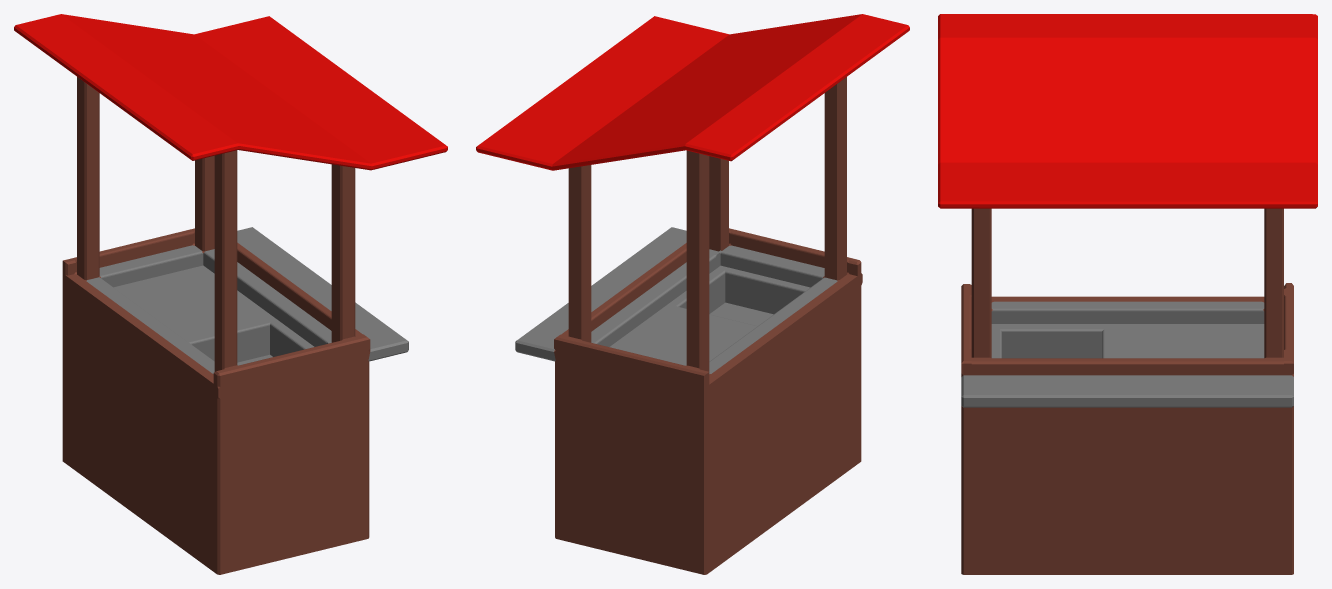
File: tindahan_2.fbx
3 views of the same model, side by side, from view 1: azimuth 30°, elevation 25°; view 2: azimuth 150°, elevation 25°; view 3: azimuth 270°, elevation 25° (orthographic). The views are drawn at different scales.
Visible parts, largest first — view 1: TINDAHAN1; view 2: TINDAHAN1; view 3: TINDAHAN1.
Boxes of the visible parts, bbox=[...] form: TINDAHAN1: bbox=[14, 14, 447, 574]; TINDAHAN1: bbox=[476, 14, 909, 574]; TINDAHAN1: bbox=[938, 14, 1317, 574].
Size of the model in its own units: 1363 by 2214 by 1642.
